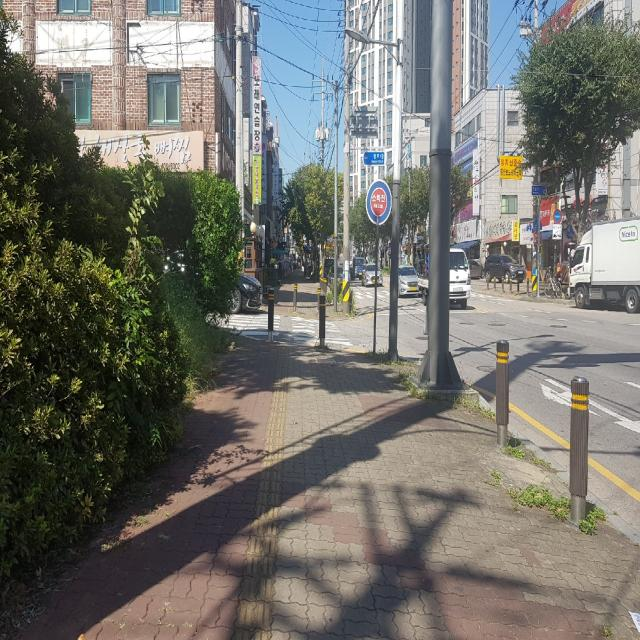횡단보도: (206, 312, 354, 347)
